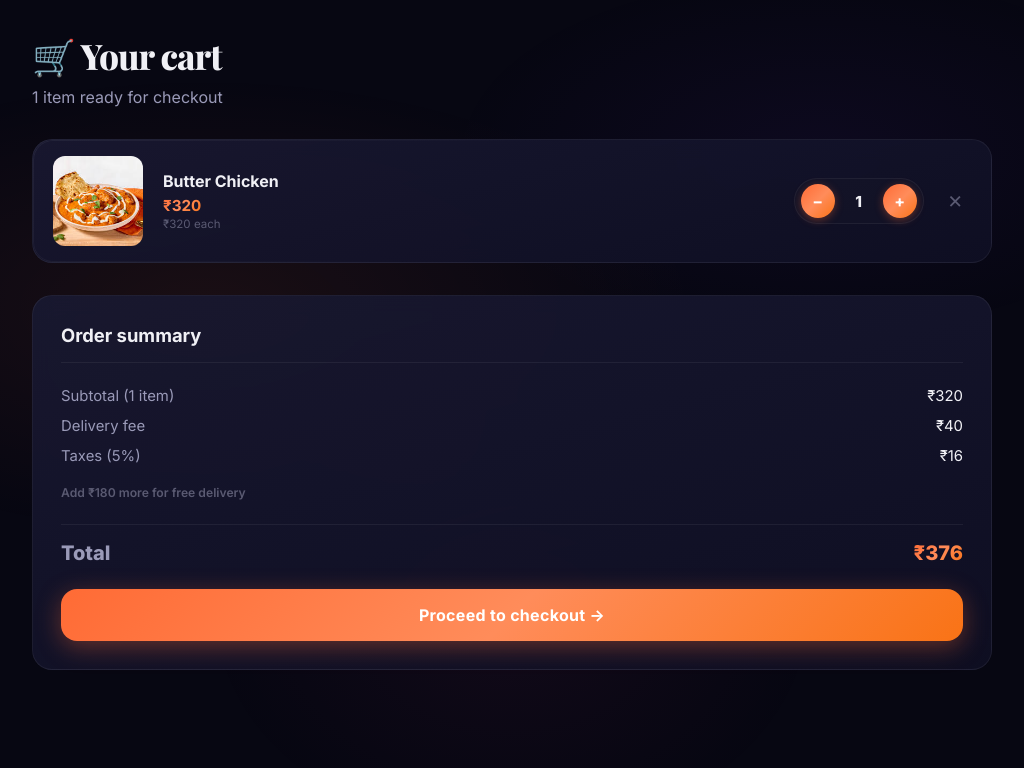
it: CartPage › recalculates the total when the quantity changes
Expected: the text "₹376" is shown, top-left (914, 541), bottom-right (963, 565)
Click the button named "increase": (900, 201) top-left (883, 184), bottom-right (917, 218)
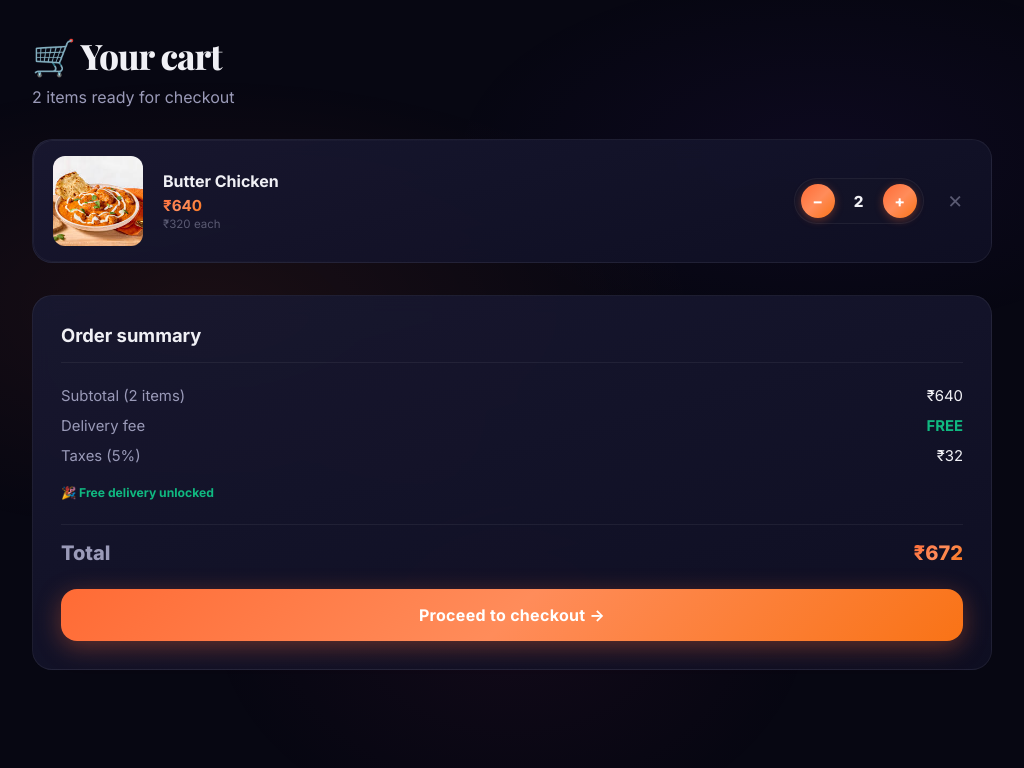
Expected: the text "₹672" is shown, top-left (914, 541), bottom-right (963, 565)
Expected: the text "₹376" is gone
